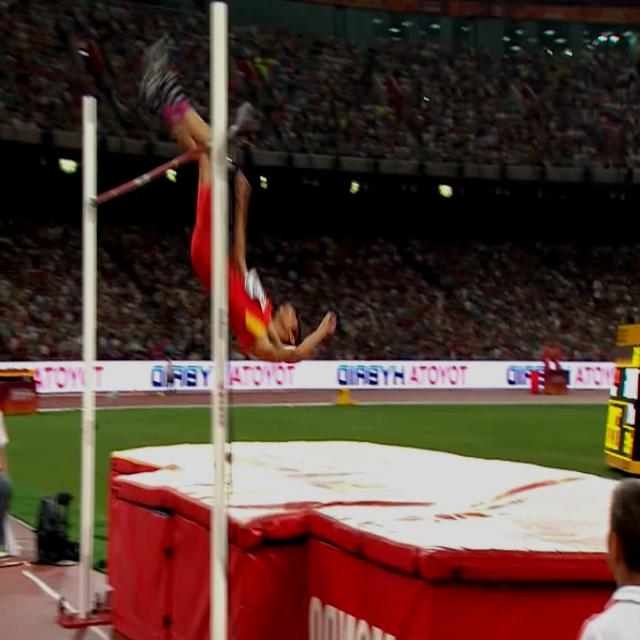land: (142, 36, 336, 362)
